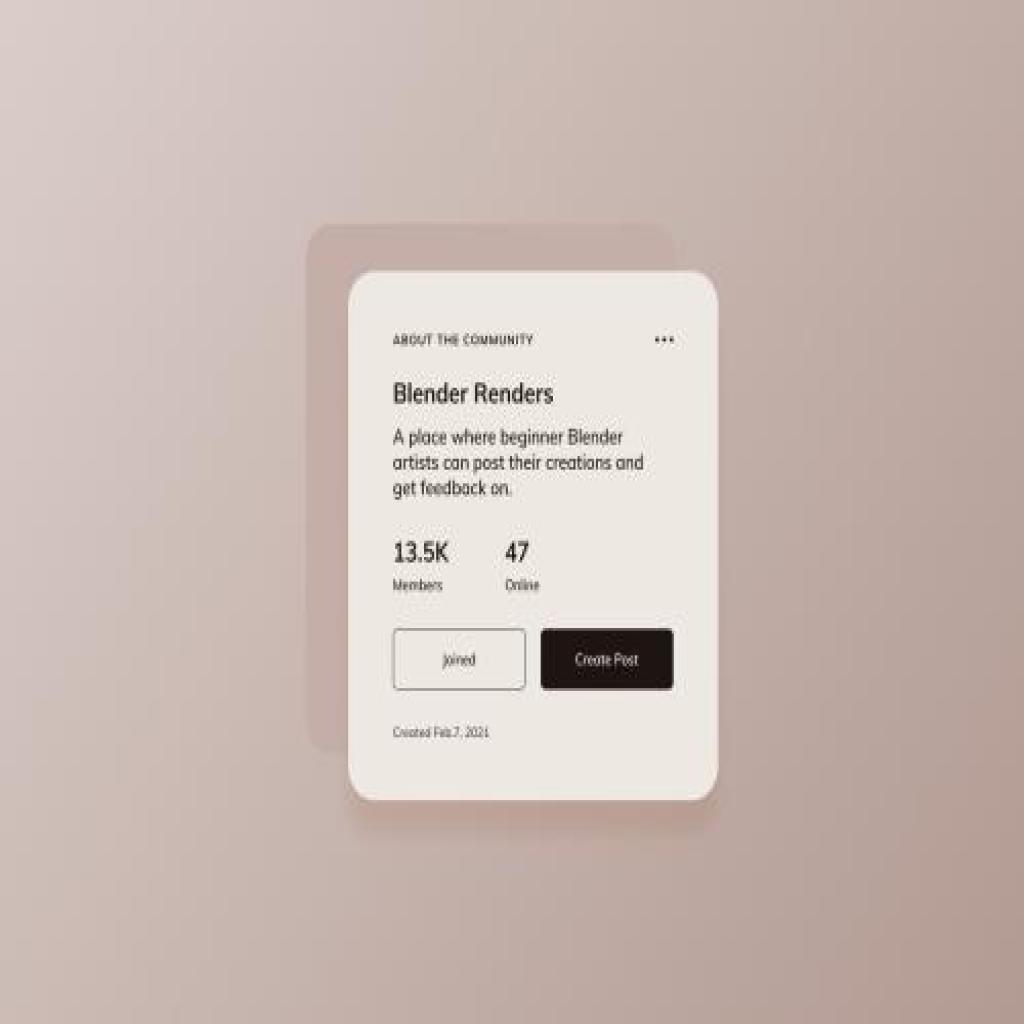button: (541, 628, 676, 688), (394, 628, 526, 688)
icon: (649, 325, 680, 355)
